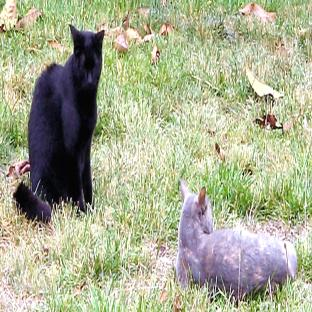Animal: (13, 25, 104, 221), (176, 178, 297, 300)
